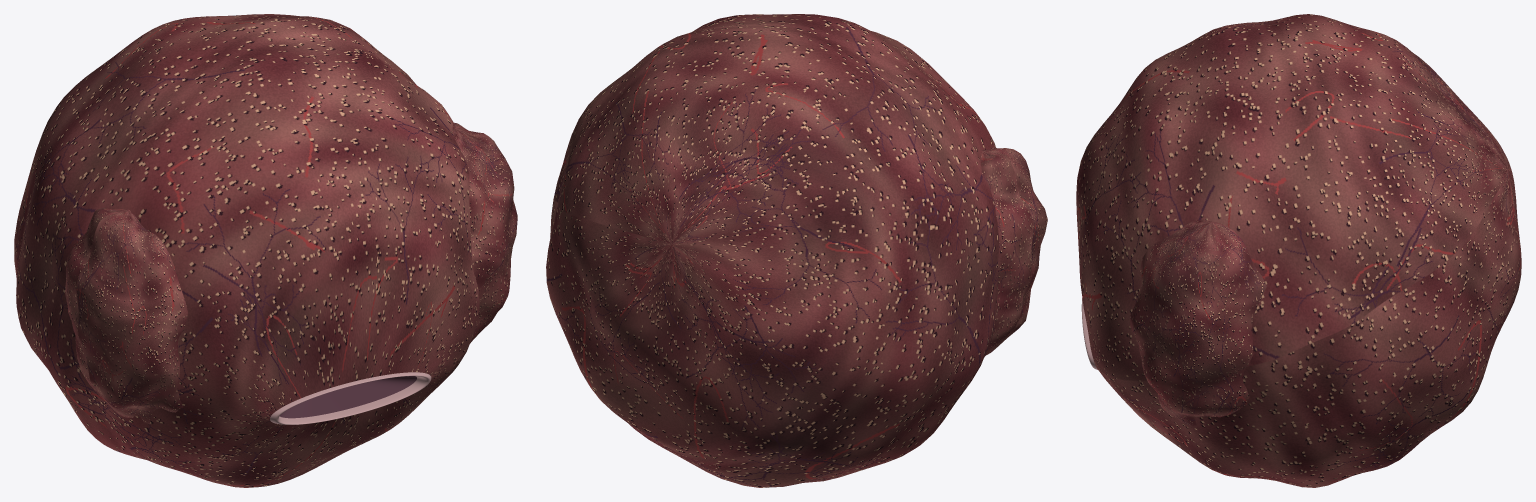
The model's file is w01_core.glb.
The picture shows the model from 3 angles, left to right: view 1: azimuth 30°, elevation 25°; view 2: azimuth 150°, elevation 25°; view 3: azimuth 270°, elevation 25°; orthographic projection.
Parts seen in each view (by area): view 1: Head, Shoulder_L, Shoulder_R, Throat, Gum; view 2: Head, Shoulder_L; view 3: Head, Shoulder_R.
Boxes of the visible parts, left/top/right/bottom form: Head: left=14, top=14, right=479, bottom=487; Shoulder_L: left=65, top=207, right=187, bottom=424; Shoulder_R: left=452, top=122, right=517, bottom=343; Throat: left=279, top=376, right=416, bottom=418; Gum: left=270, top=372, right=431, bottom=424; Head: left=546, top=14, right=999, bottom=487; Shoulder_L: left=981, top=147, right=1047, bottom=355; Head: left=1076, top=14, right=1521, bottom=487; Shoulder_R: left=1130, top=220, right=1266, bottom=426.
Bounding box in the file's own units: 4.26 × 4.09 × 3.87.
Materials: 4 (1 with a texture image).
